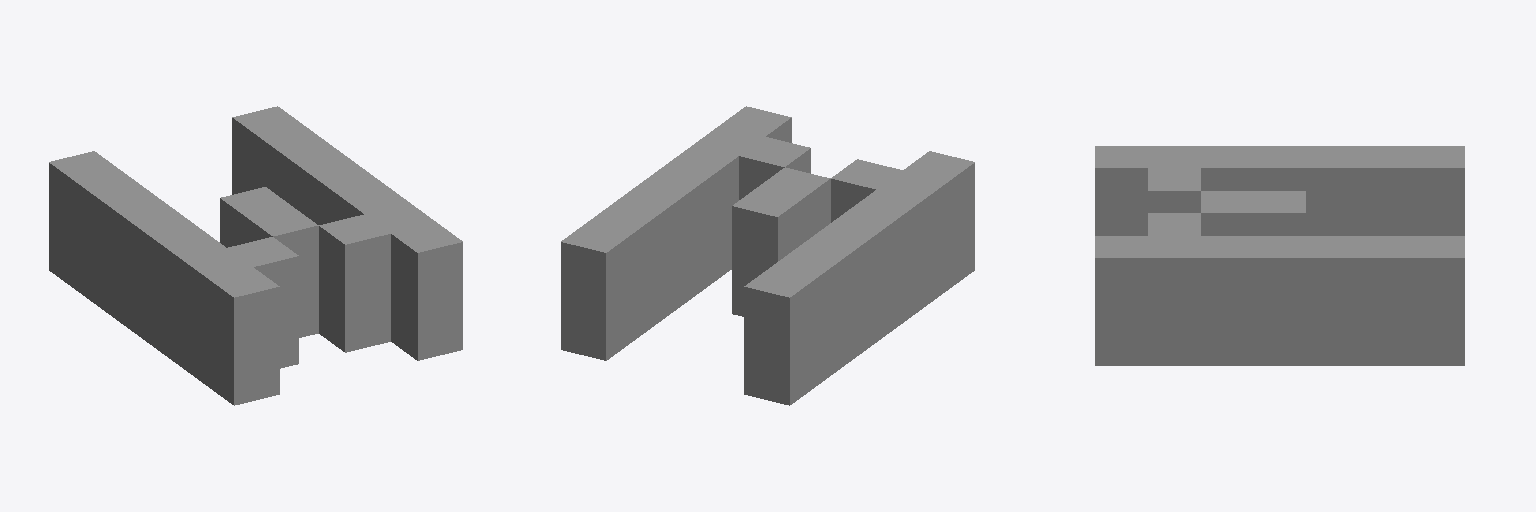
The picture shows the model from 3 angles: view 1: azimuth 30°, elevation 25°; view 2: azimuth 150°, elevation 25°; view 3: azimuth 270°, elevation 25°; orthographic projection.
Parts seen in each view (by area): view 1: W_CUABC.023; view 2: W_CUABC.023; view 3: W_CUABC.023.
Boxes of the visible parts, x1,y1,x2,y2 form: W_CUABC.023: [49, 106, 462, 405]; W_CUABC.023: [561, 106, 974, 405]; W_CUABC.023: [1095, 146, 1464, 365].
Bounding box in the file's own units: 0.5556 × 0.25 × 0.7778.